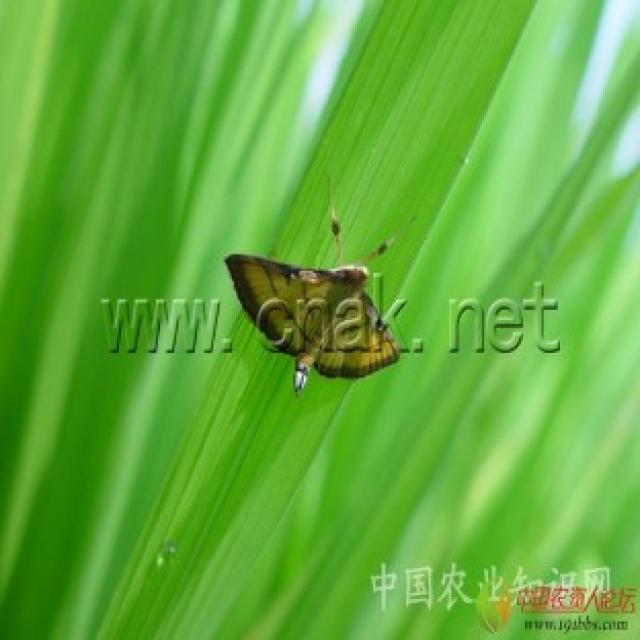rice leaf roller: (226, 254, 398, 390), (330, 203, 341, 256), (365, 238, 392, 258)
